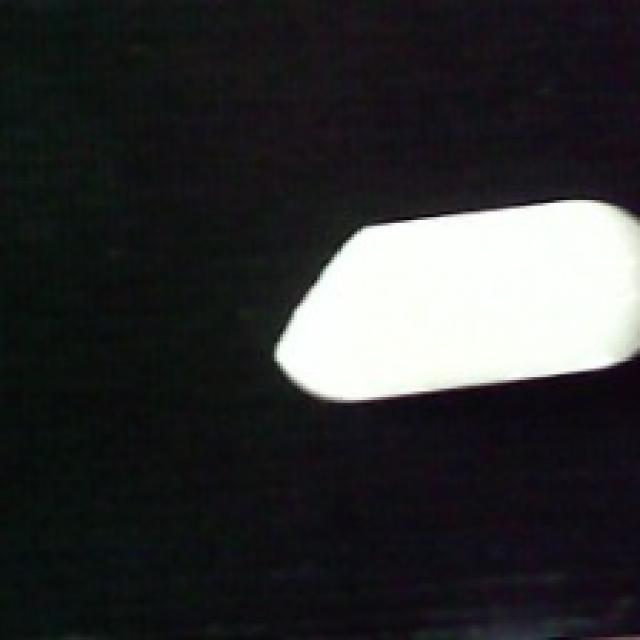defected: (268, 198, 640, 405)
